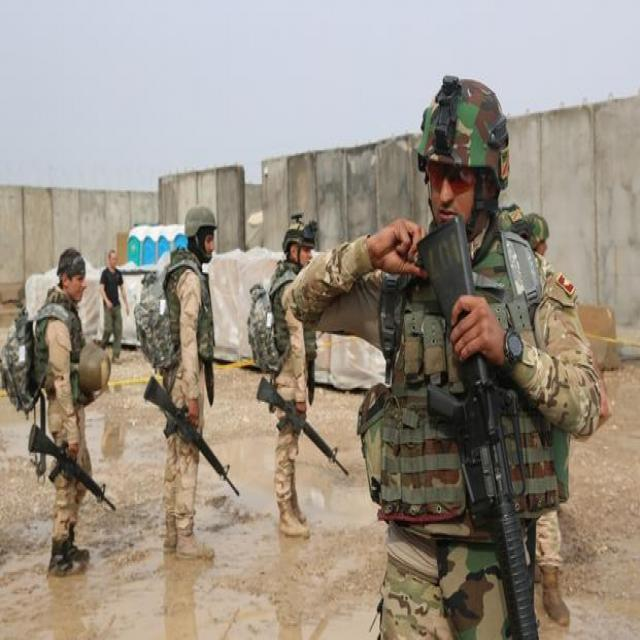m16: (126, 357, 254, 509)
